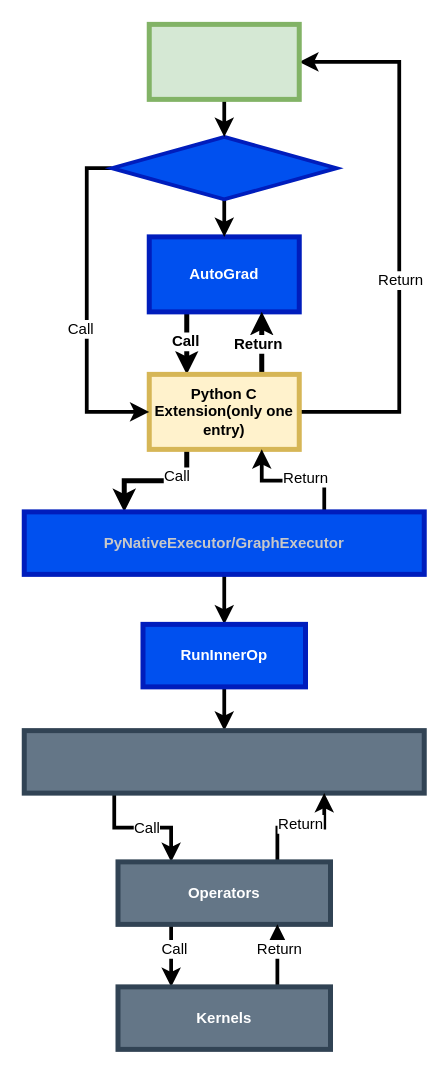
Image size: 448x1073. Some labels were removed from this diagram. The shapes that lost their labels are listed below. From the top down, each one's centre as x and y in pixels, then its label:
the point at 223,61: Python API
the point at 223,167: GradientOperation
the point at 223,761: RunInVm/Ms/GE
